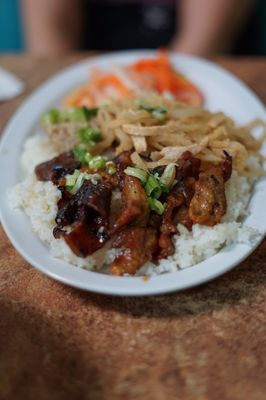sushi: (1, 50, 262, 298)
